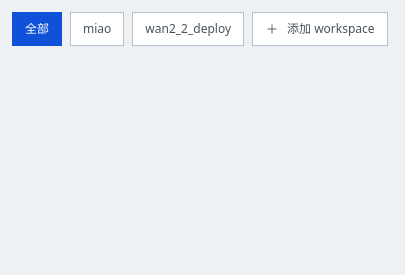
Test: WorkspaceChips › opens an add-workspace form and submits it
The image size is (405, 275).
Click the button "添加 workspace" at (320, 29), box [252,12,388,46]
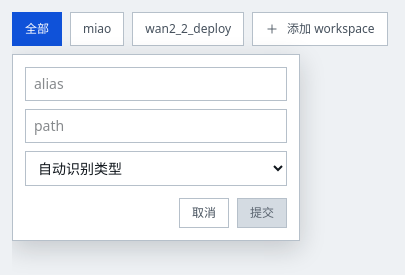
Type "new-ws" into the field with test id "add-ws-alias" at (156, 84), box [25,67,287,101]
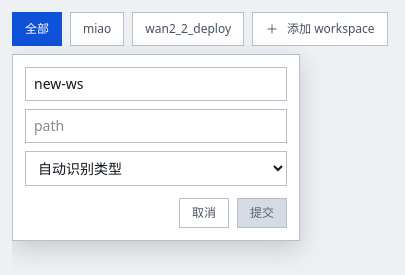
Type "/x/new" into the field with test id "add-ws-path" at (156, 126), box [25,109,287,143]
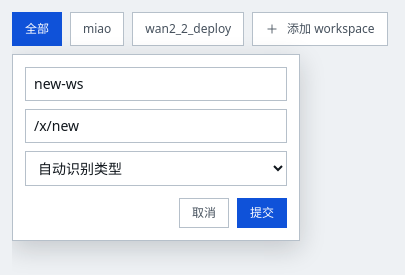
Click the button with test id "add-ws-submit" at (262, 213), box [237,198,287,228]
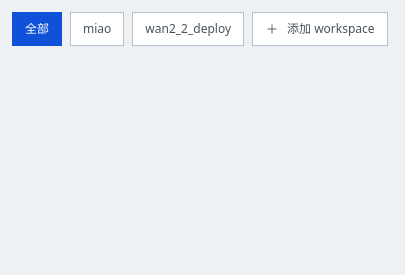
Expected: the field with test id "add-ws-alias" is gone
